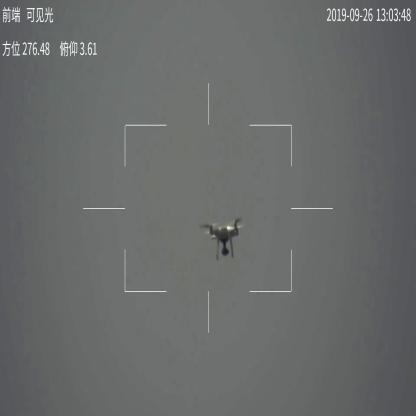uav: (199, 216, 246, 259)
